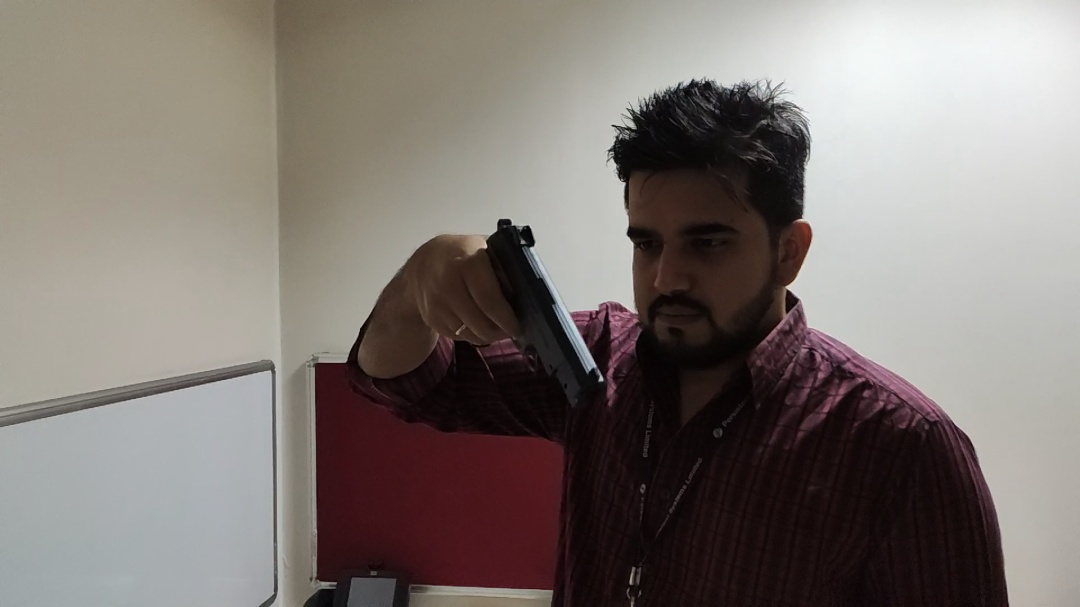gun: (449, 216, 608, 416)
